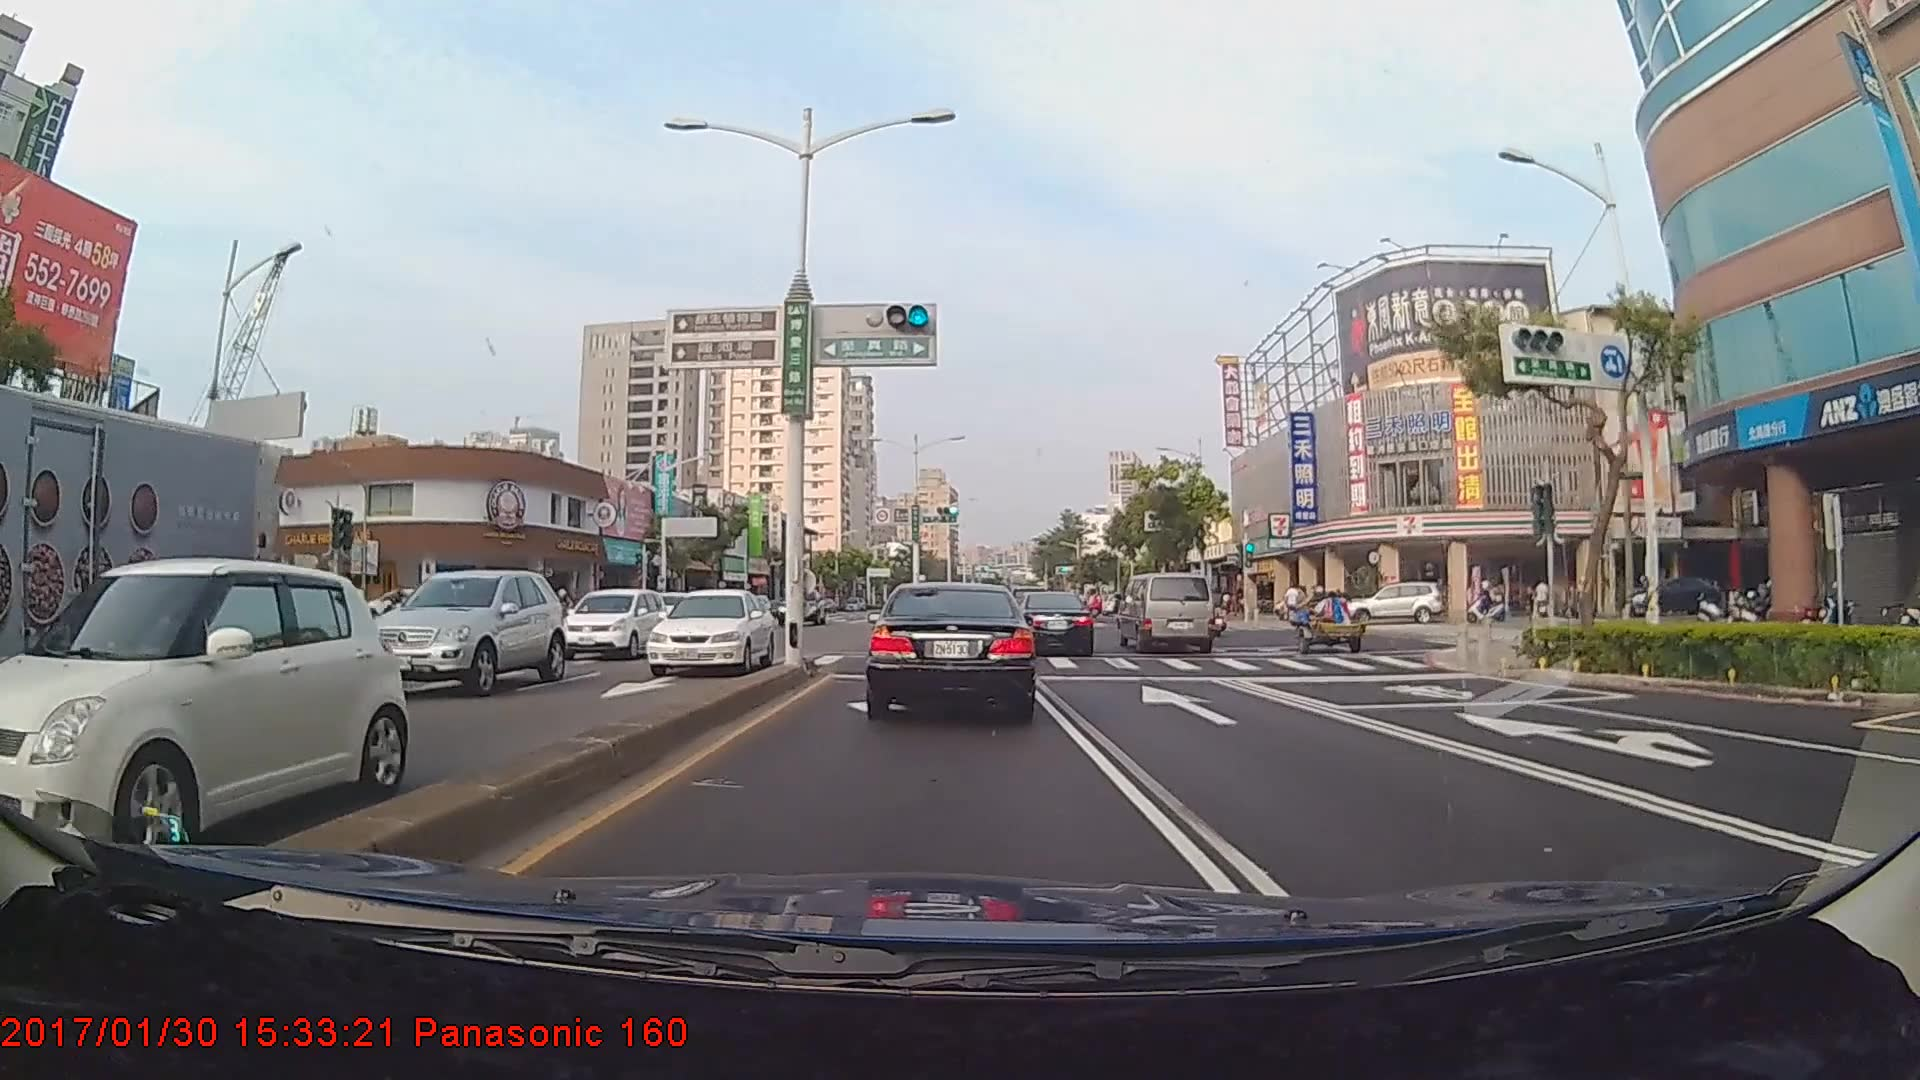vehicle: (0, 550, 386, 861), (0, 392, 258, 748), (348, 560, 558, 694), (868, 578, 1035, 721), (634, 582, 781, 676), (549, 583, 665, 659), (1120, 572, 1217, 655), (1015, 592, 1095, 655), (1358, 582, 1447, 625)
